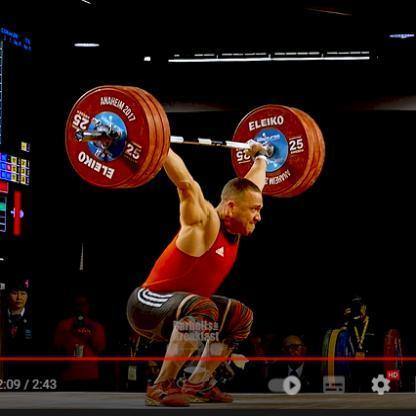Barbell: (73, 129, 87, 146)
